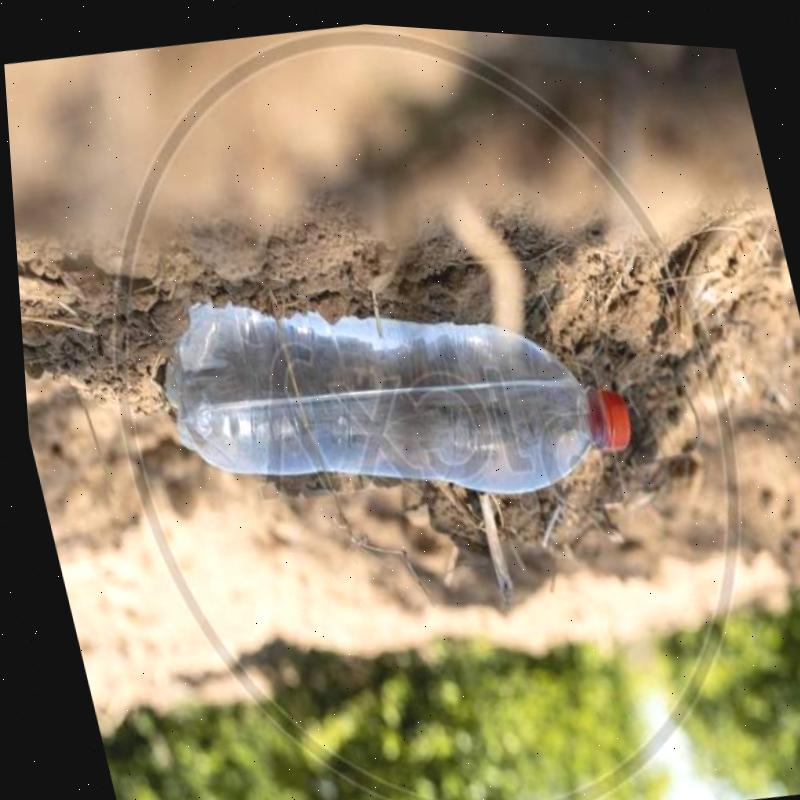botella: (131, 224, 641, 553)
